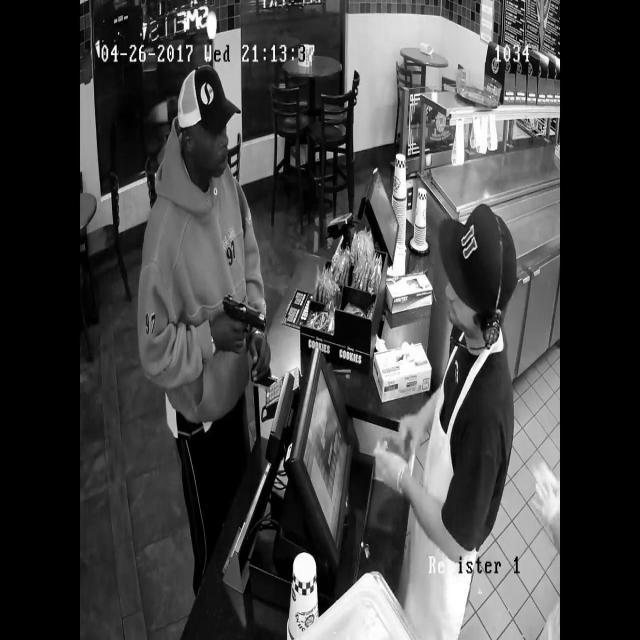Gun: (207, 272, 277, 356)
